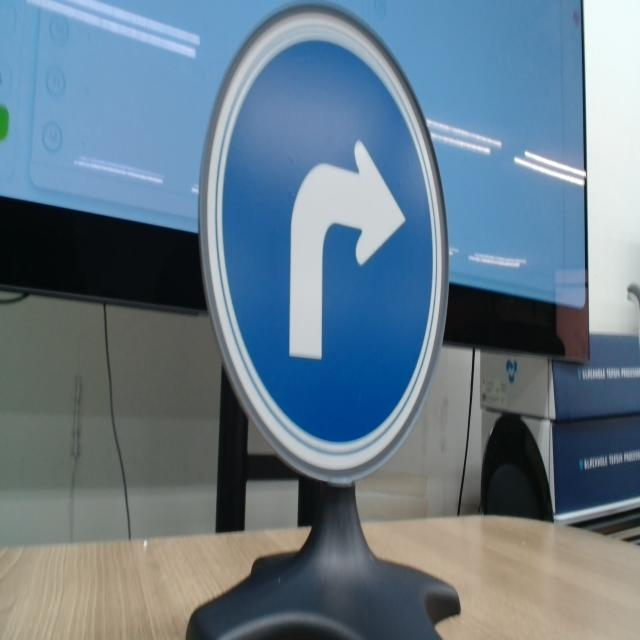right_dierection: (191, 0, 475, 494)
